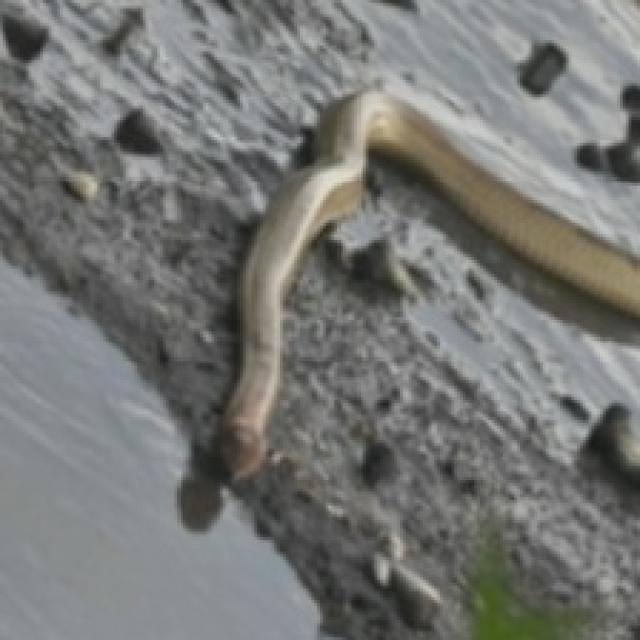king cobra: (220, 91, 637, 477)
